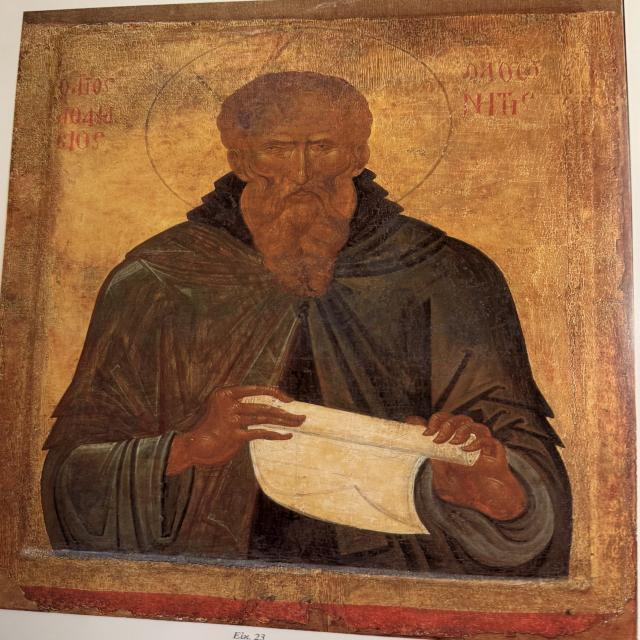aura: (143, 25, 457, 234)
saint: (43, 24, 585, 582)
scroll: (193, 370, 503, 556)
